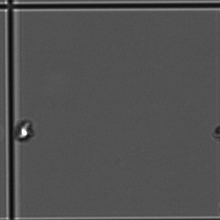Living Cell: (13, 117, 43, 149)
